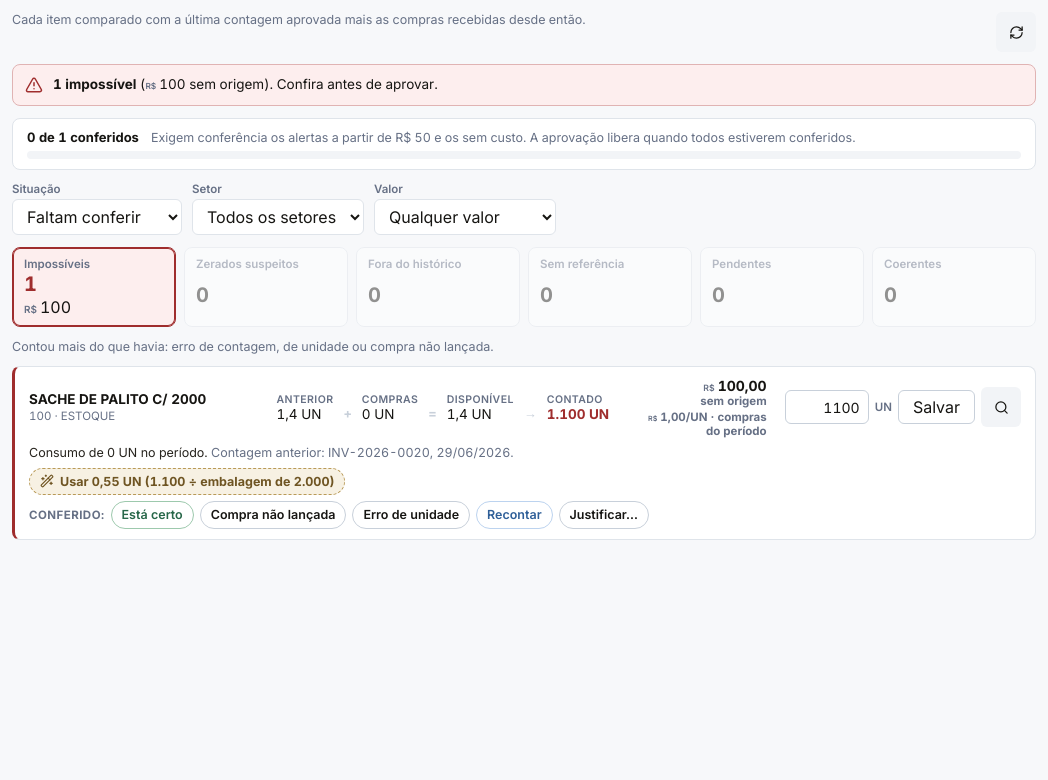
ConferenciaInventario › sugestao de embalagem preenche o campo com um clique
What coordinates should you click on to do the following:
click the button "Usar 0,55 UN (1.100 ÷ embalagem de 2.000)"
I would click on:
 (187, 481)
Its box is [29, 468, 345, 495].
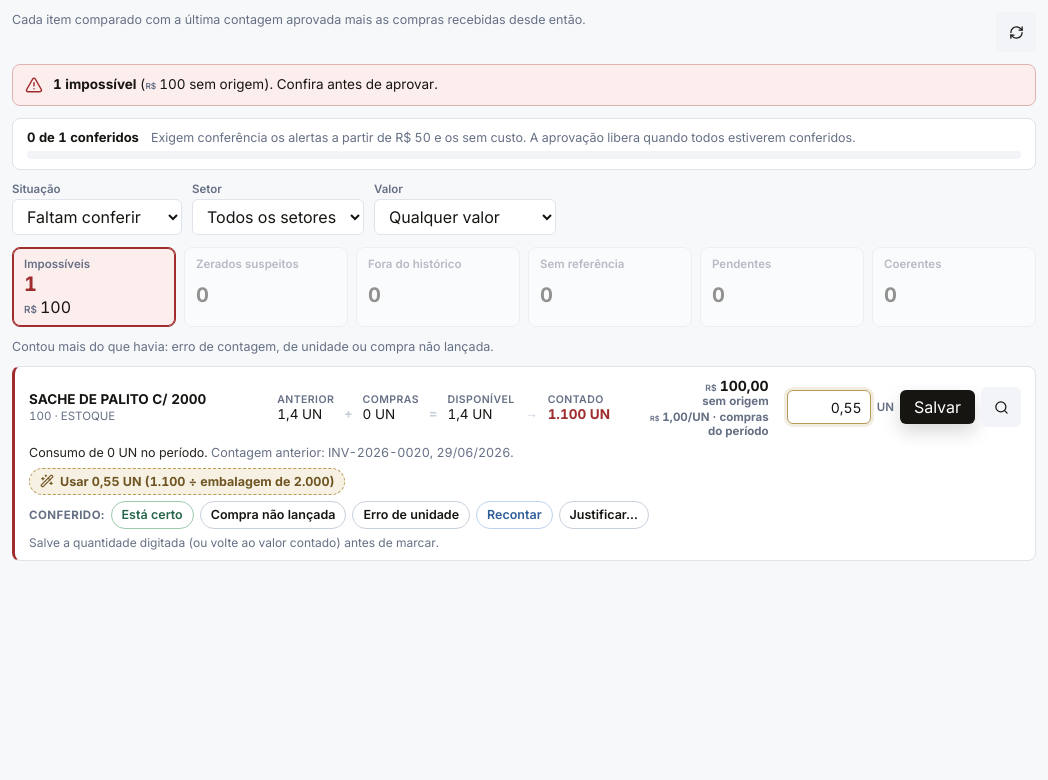
Now the field named "quantidade certa de sache" holds "0,55", box [787, 390, 871, 424]
